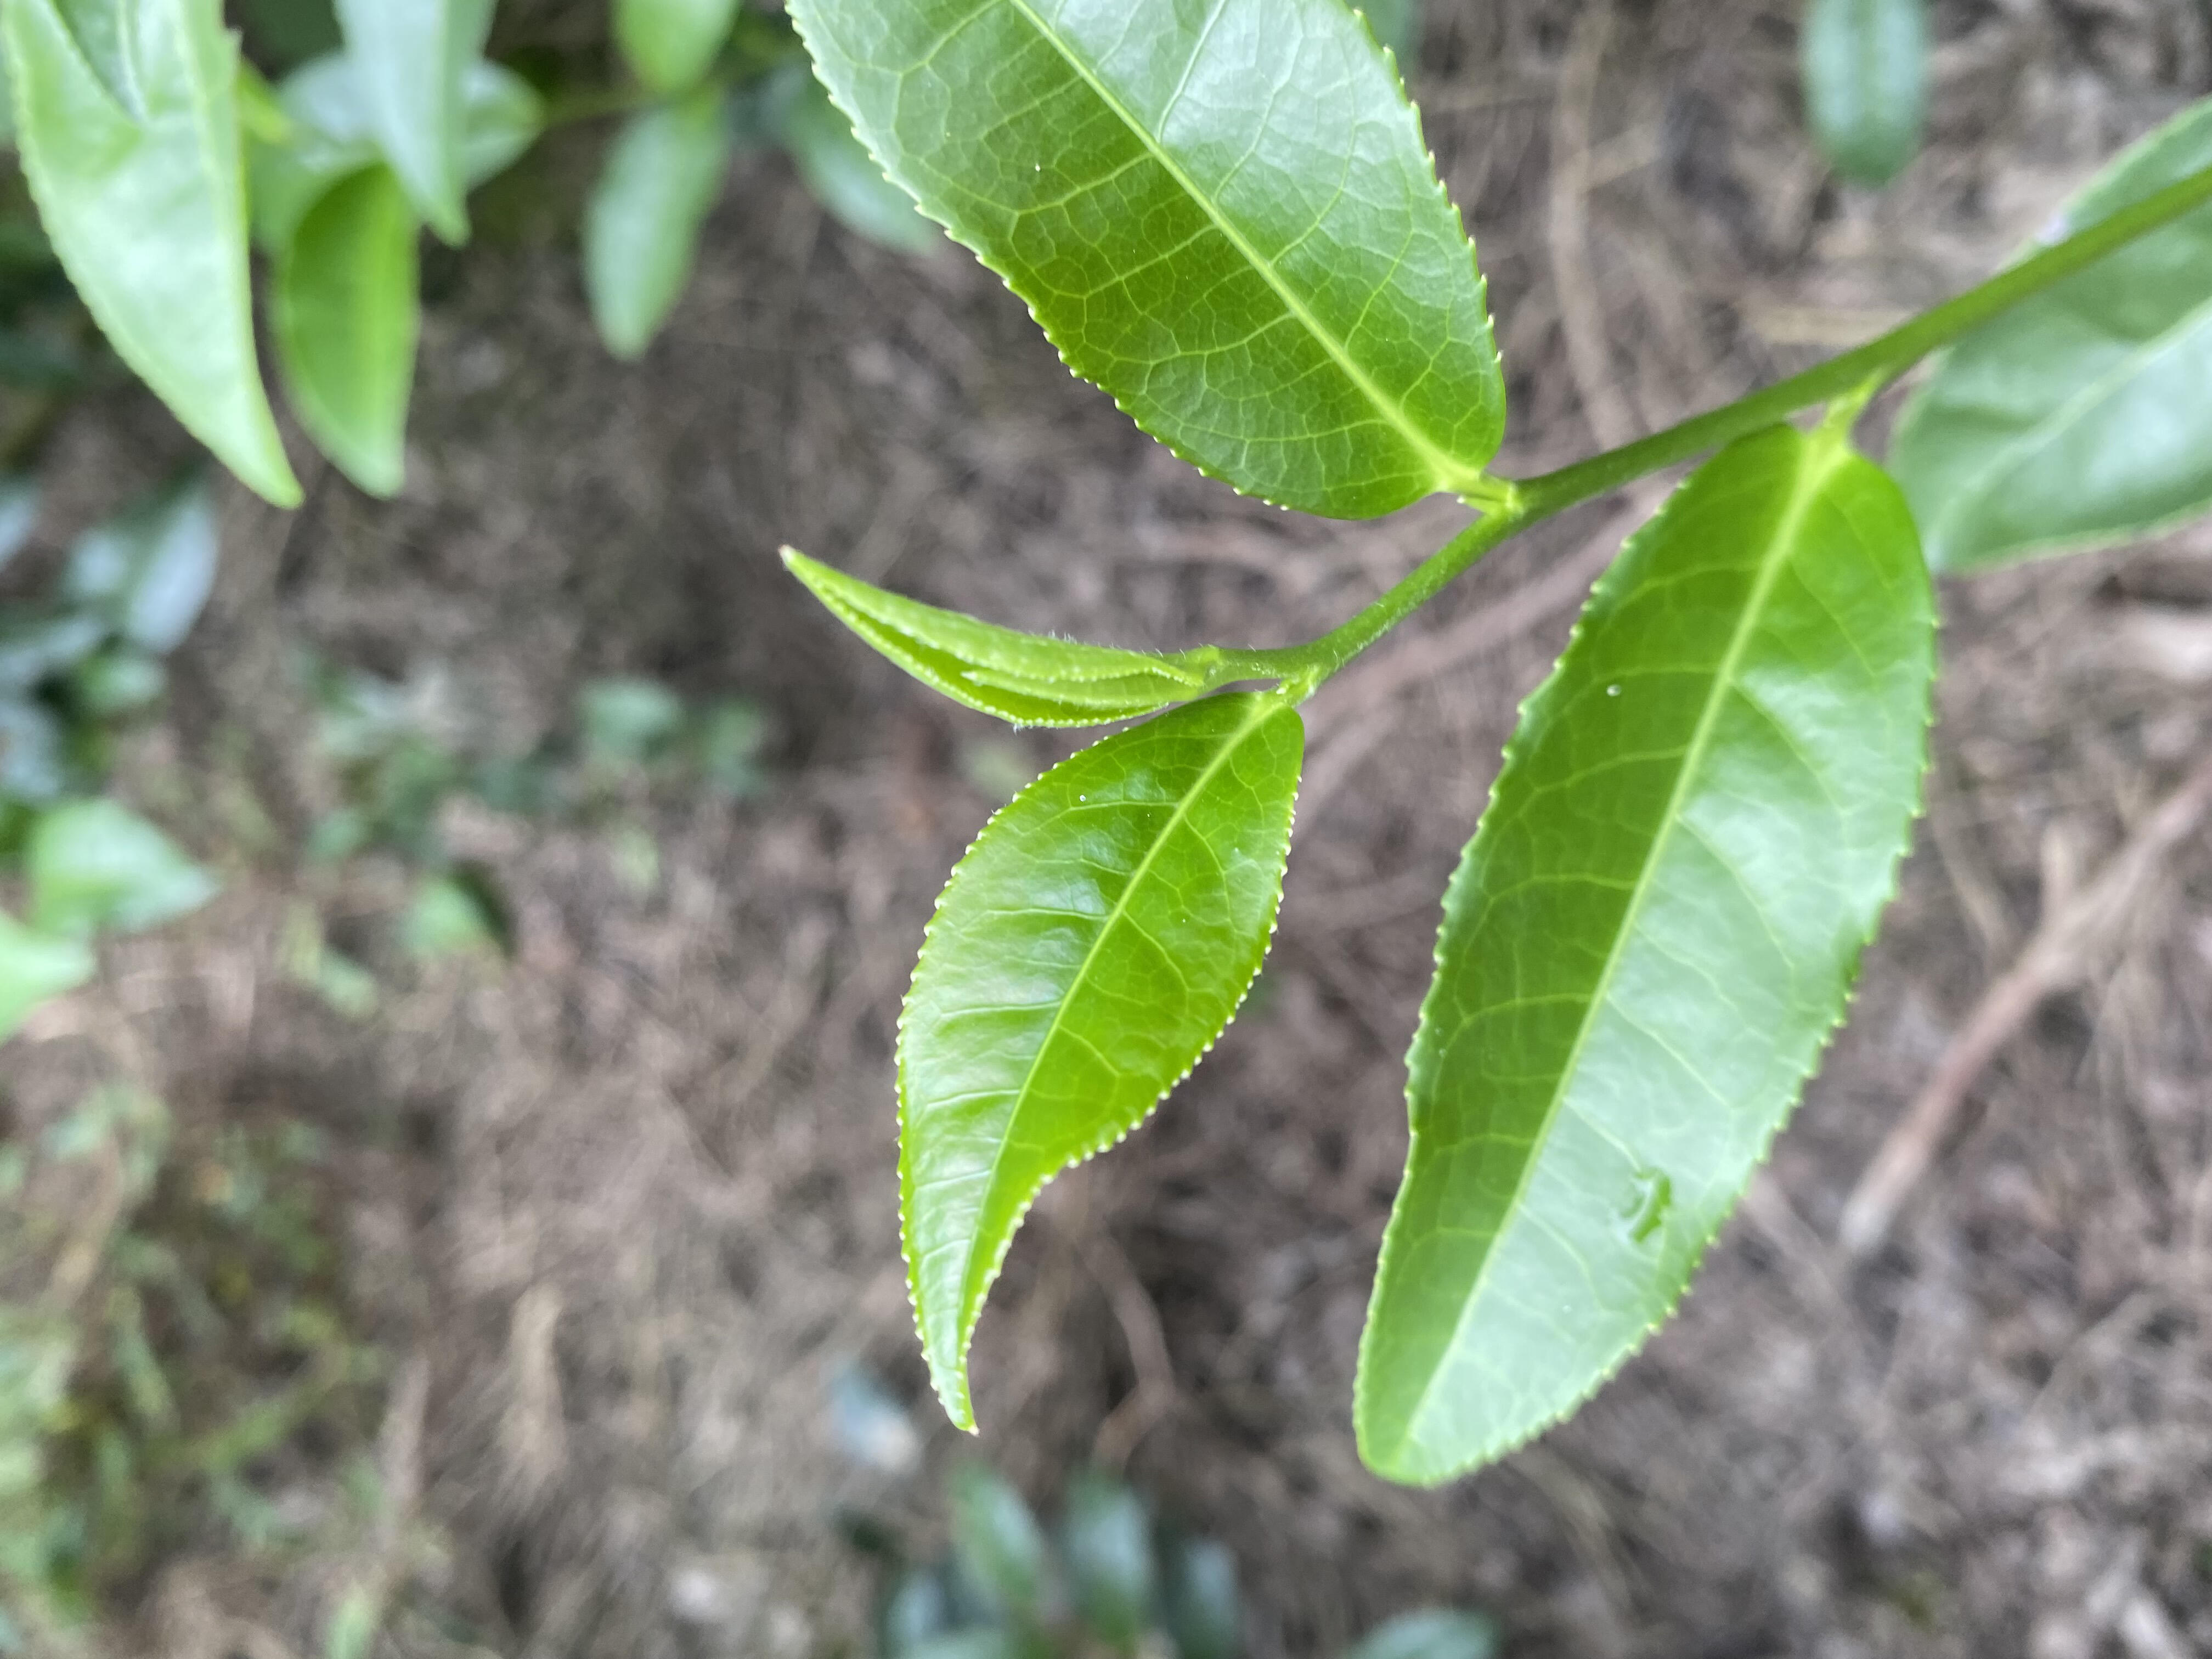healthy: (1341, 430, 1940, 1493), (784, 3, 1510, 521), (888, 692, 1305, 1443)
